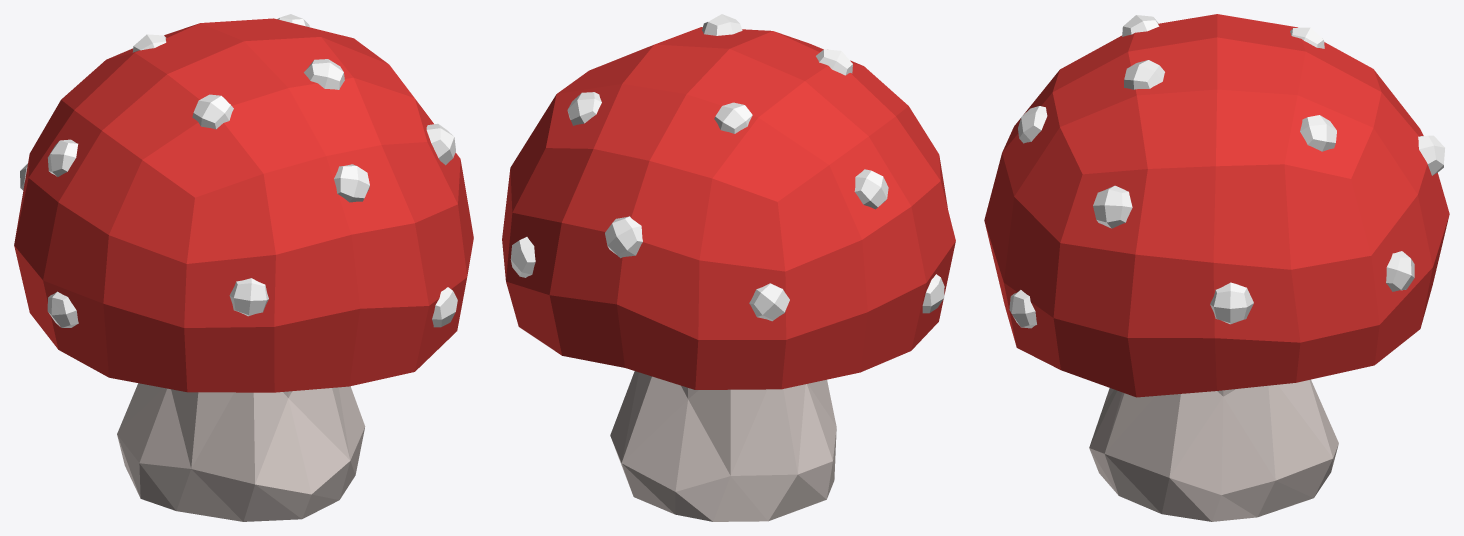
The model's file is fantasy_plant_019.fbx.
The picture shows the model from 3 angles, left to right: view 1: azimuth 30°, elevation 25°; view 2: azimuth 150°, elevation 25°; view 3: azimuth 270°, elevation 25°; orthographic projection. The views are drawn at different scales.
Visible parts, largest first — view 1: fantasy_plant.019; view 2: fantasy_plant.019; view 3: fantasy_plant.019.
Part boxes in pixels (<box>): fantasy_plant.019: <box>14,14,473,521</box>; fantasy_plant.019: <box>502,14,955,521</box>; fantasy_plant.019: <box>984,14,1449,521</box>.
Bounding box in the file's own units: 647 × 648 × 626.
1 material, 1 textured.
